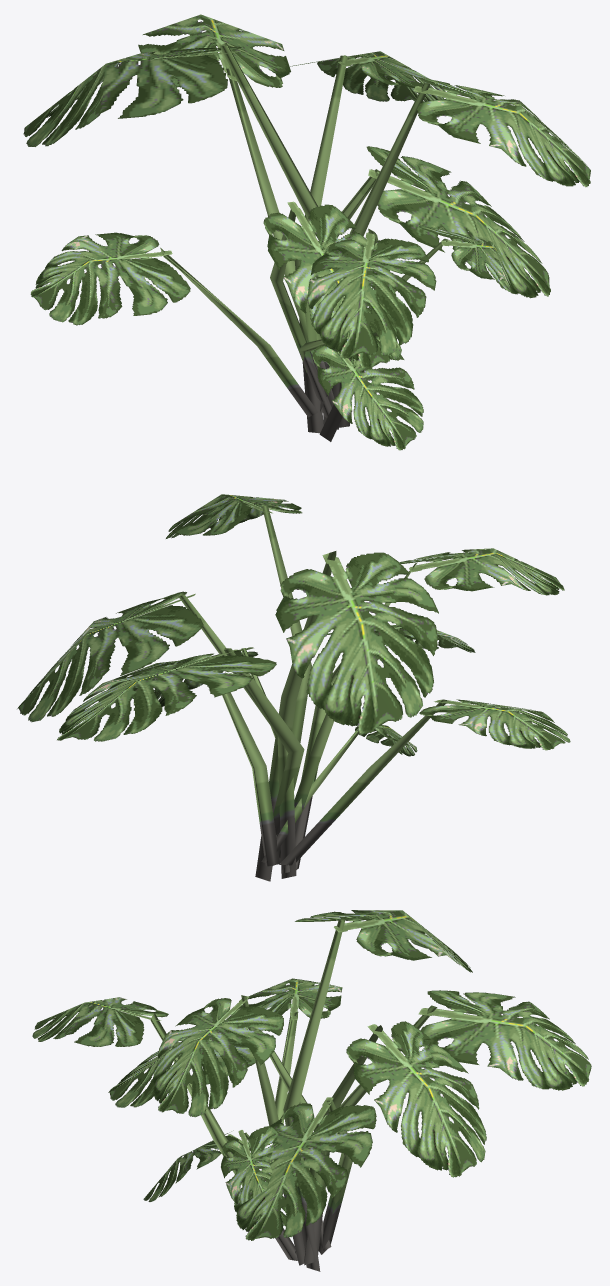
The model's file is plant_bush1.fbx.
The picture shows the model from 3 angles, top to bottom: view 1: azimuth 30°, elevation 25°; view 2: azimuth 150°, elevation 25°; view 3: azimuth 270°, elevation 25°; orthographic projection. The views are drawn at different scales.
Parts seen in each view (by area): view 1: plant_bush1; view 2: plant_bush1; view 3: plant_bush1.
Part boxes in pixels (left/top/right/bottom): plant_bush1: left=23, top=14, right=590, bottom=450; plant_bush1: left=17, top=494, right=570, bottom=881; plant_bush1: left=32, top=910, right=591, bottom=1271.
Bounding box in the file's own units: 200 × 142 × 239.
1 material, 1 textured.
